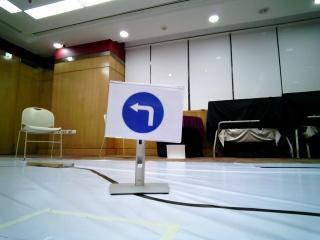left: (109, 87, 180, 144)
